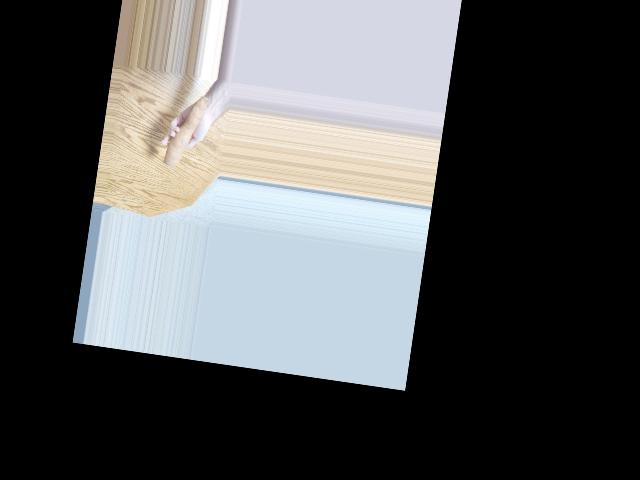sweet_potato: (161, 89, 210, 171)
